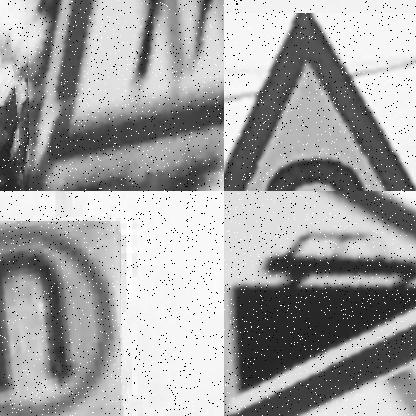Steep Descent: (224, 191, 416, 416)
U-Turn: (224, 13, 416, 191), (0, 222, 120, 416), (0, 237, 110, 416)
